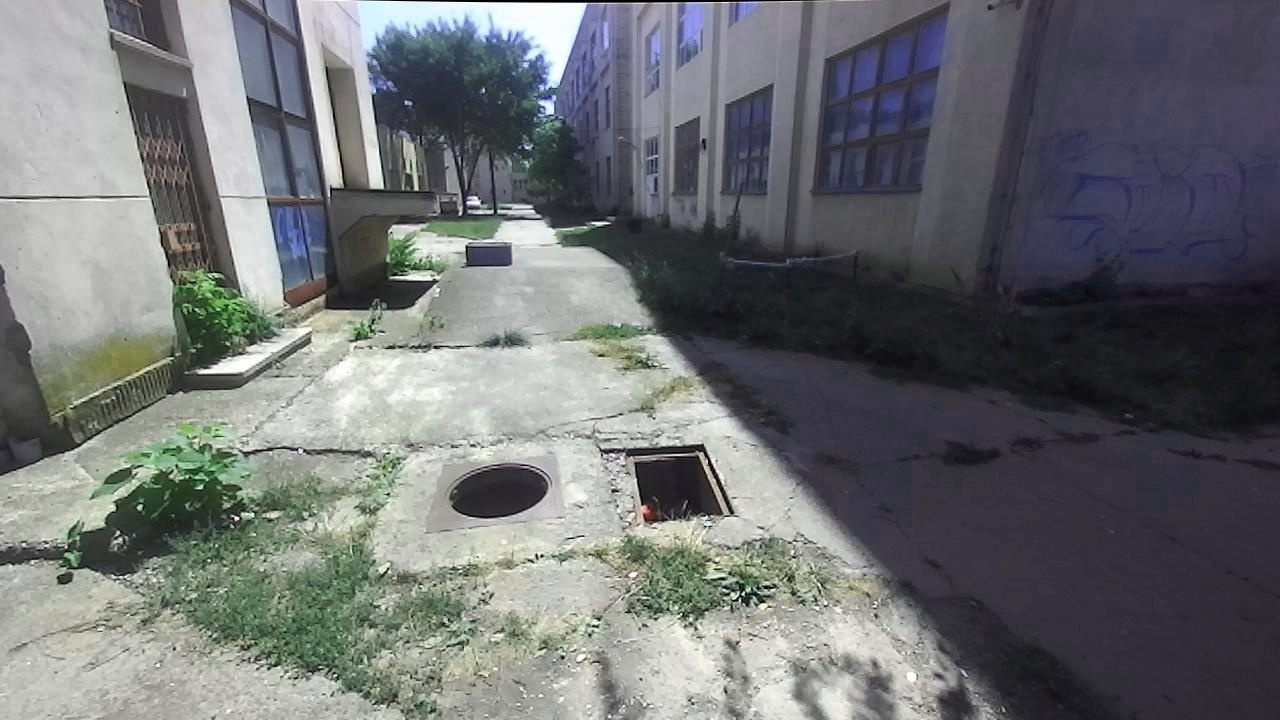drain: (623, 440, 741, 525), (439, 459, 562, 523)
